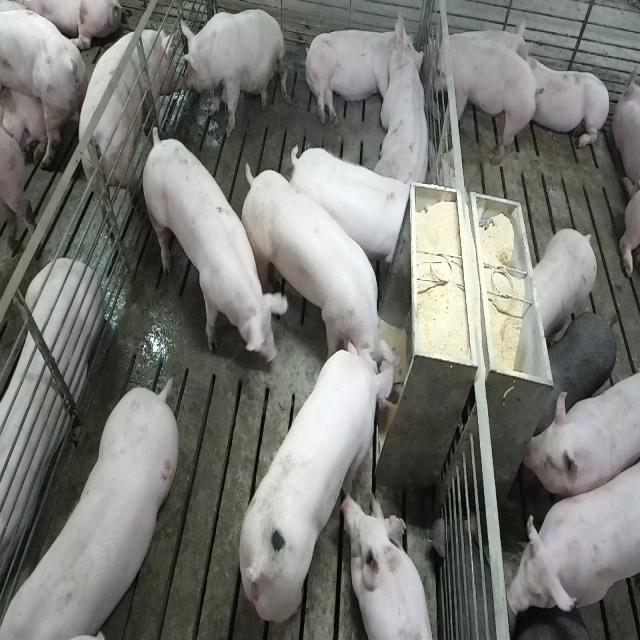Feeding: (236, 338, 400, 625), (240, 162, 401, 384)
Lateral_lying: (302, 11, 424, 128)
Sitting: (178, 8, 286, 138)
Standing: (0, 382, 176, 639), (139, 121, 281, 373), (506, 444, 638, 620), (80, 26, 180, 236), (286, 144, 415, 274), (432, 30, 540, 168), (523, 368, 637, 497), (0, 0, 83, 160), (541, 309, 617, 424), (531, 228, 598, 343), (510, 608, 604, 640)
Sternal_lying: (0, 260, 100, 598), (345, 492, 438, 640), (377, 21, 434, 191), (524, 49, 612, 153), (468, 17, 536, 75)
